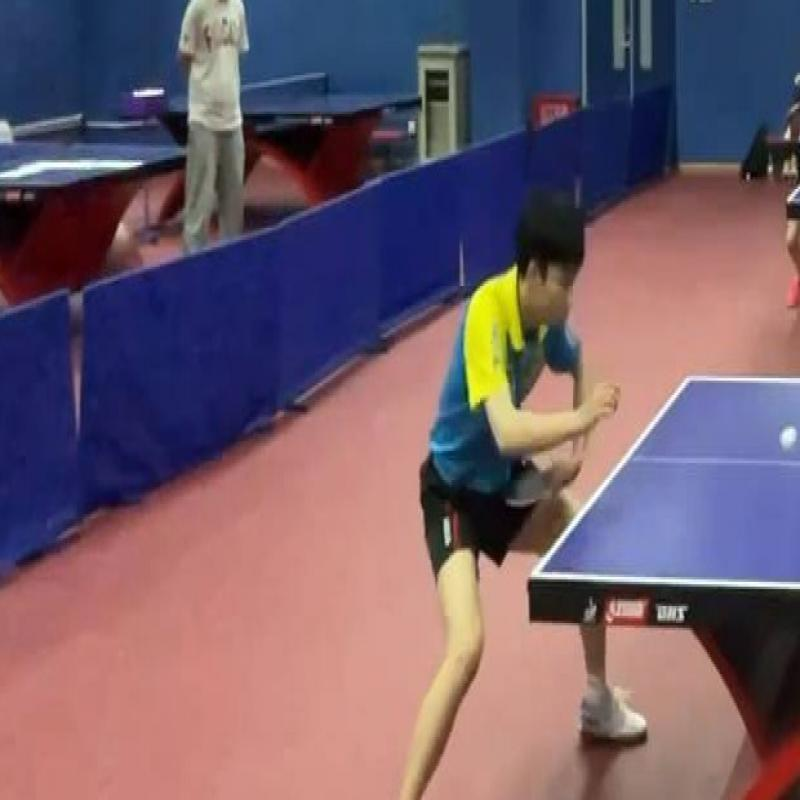bats: (498, 468, 569, 524)
